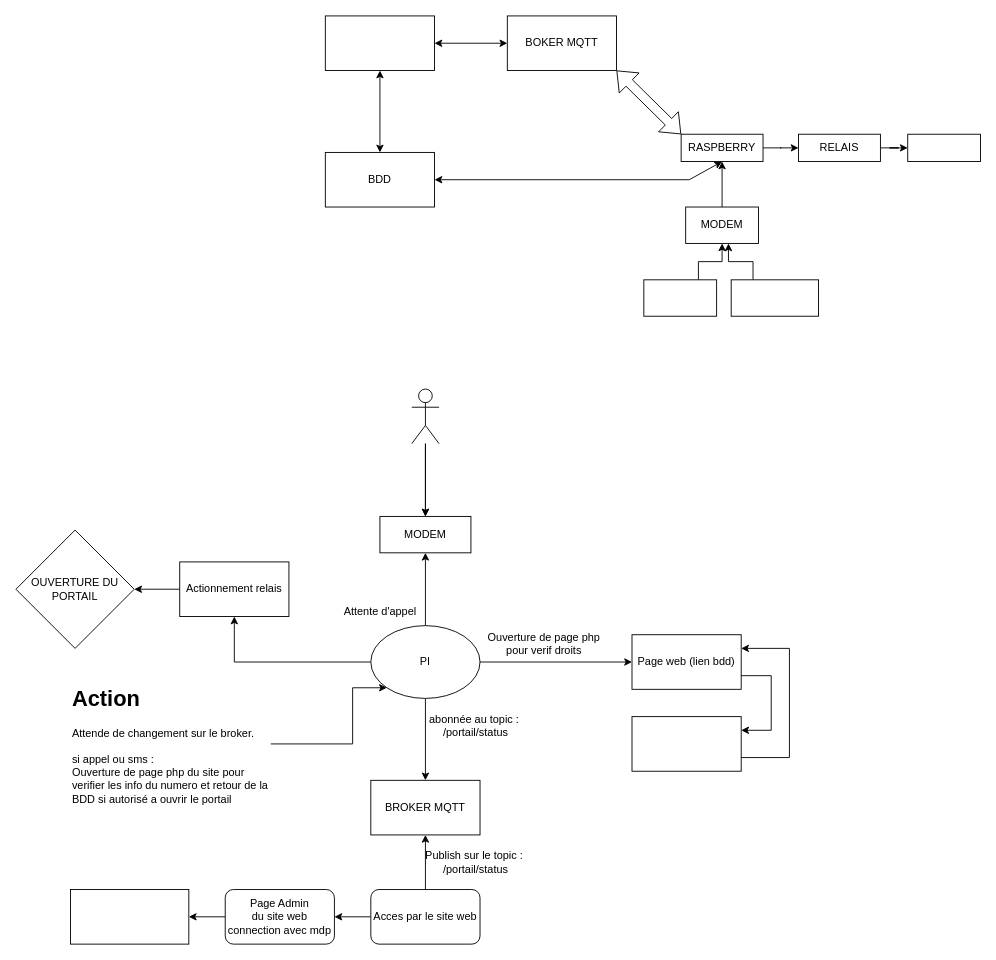
Image size: 996x960. Some labels were removed from this diagram. Here are the shapes that lost their labels. From the top down, the centre of each, then its label:
At (379,43): "SITE WEB".
At (944,147): "PORTAIL".
At (680,297): "APPEL GSM".
At (774,297): "ENVOIE SMS".
At (425,416): "Appel 06 .. .. .. ..".
At (686,743): "Verification des droit sur la BDD".
At (129,916): "Acces a la BDD pour : ajout user etc...".
